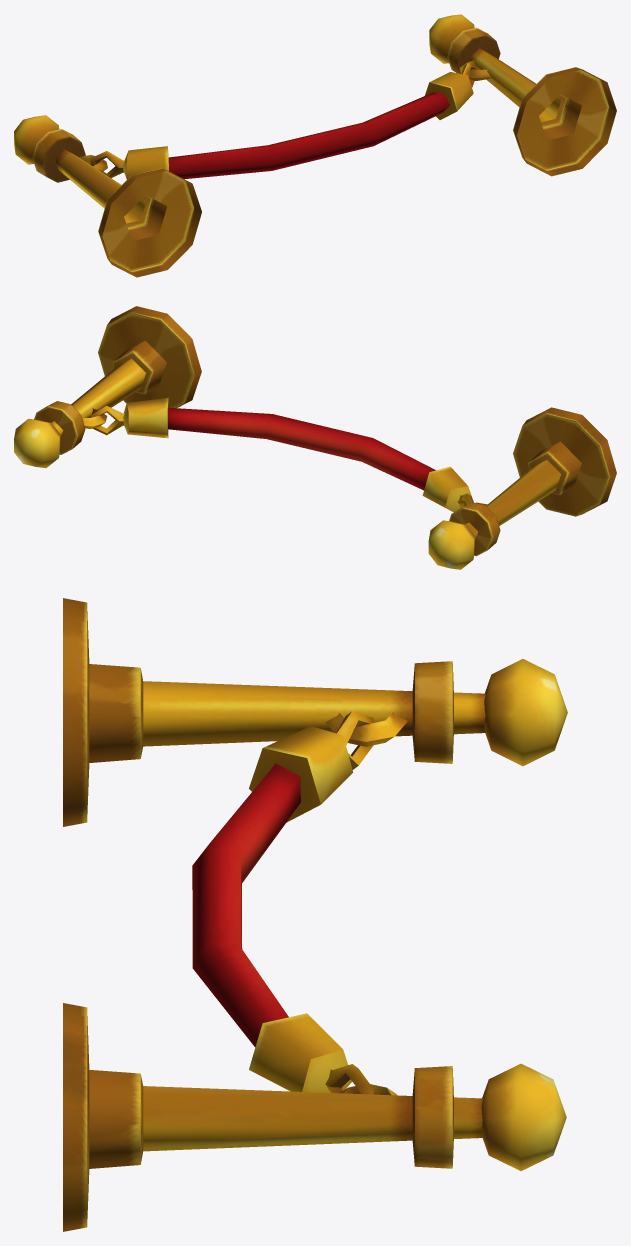
File: VelvetRope.fbx
The picture shows the model from 3 angles, top to bottom: view 1: azimuth 30°, elevation 25°; view 2: azimuth 150°, elevation 25°; view 3: azimuth 270°, elevation 25°; orthographic projection. The views are drawn at different scales.
Parts seen in each view (by area): view 1: VelvetRope; view 2: VelvetRope; view 3: VelvetRope.
Part boxes in pixels (<box>): VelvetRope: <box>14,14,616,277</box>; VelvetRope: <box>14,306,616,569</box>; VelvetRope: <box>63,598,567,1231</box>.
Bounding box in the file's own units: 174 × 32.12 × 73.91.
